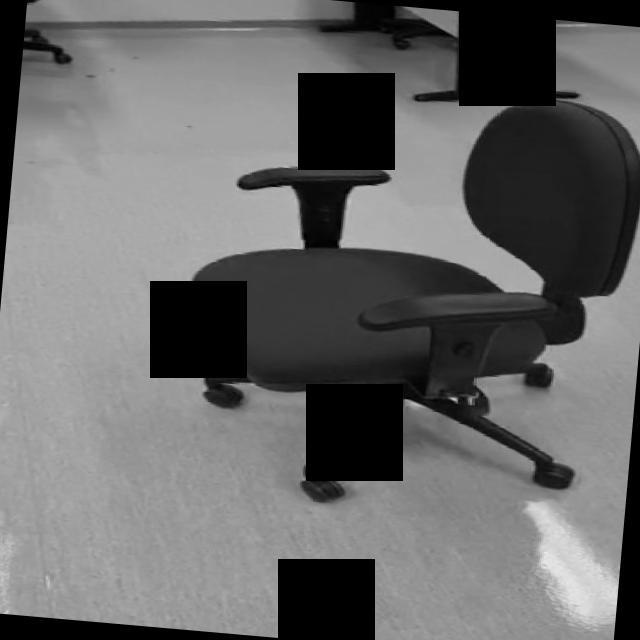chair: (173, 69, 640, 525)
